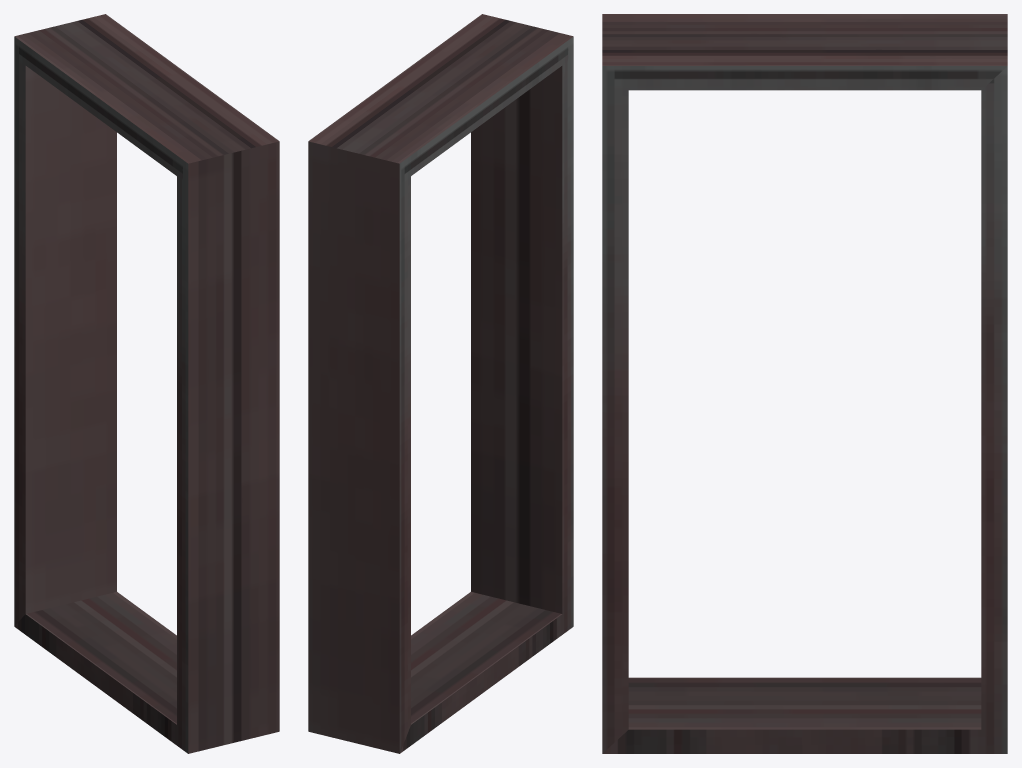
File: door_frame2.fbx
3 renders of one model, left to right at view 1: azimuth 30°, elevation 25°; view 2: azimuth 150°, elevation 25°; view 3: azimuth 270°, elevation 25°, orthographic. The views are drawn at different scales.
Visible parts, largest first — view 1: door_frame; view 2: door_frame; view 3: door_frame.
Boxes of the visible parts, left/top/right/bottom form: door_frame: left=14, top=14, right=279, bottom=753; door_frame: left=308, top=14, right=573, bottom=753; door_frame: left=602, top=14, right=1007, bottom=753.
Size of the model in its own units: 0.3491 by 1.15 by 2.15.
1 material, 1 textured.
